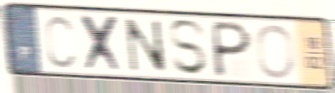C: (43, 13, 77, 70)
N: (122, 16, 170, 75)
O: (254, 22, 297, 81)
P: (211, 18, 254, 80)
S: (167, 18, 211, 78)
X: (78, 12, 127, 75)
